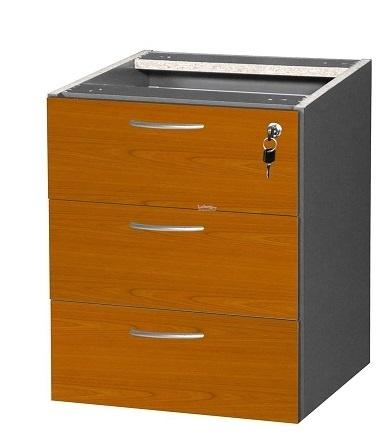cabinet_door: (51, 104, 299, 207), (53, 212, 298, 313), (53, 313, 296, 411)
handle: (127, 217, 209, 240), (128, 326, 208, 348), (129, 117, 207, 138)
